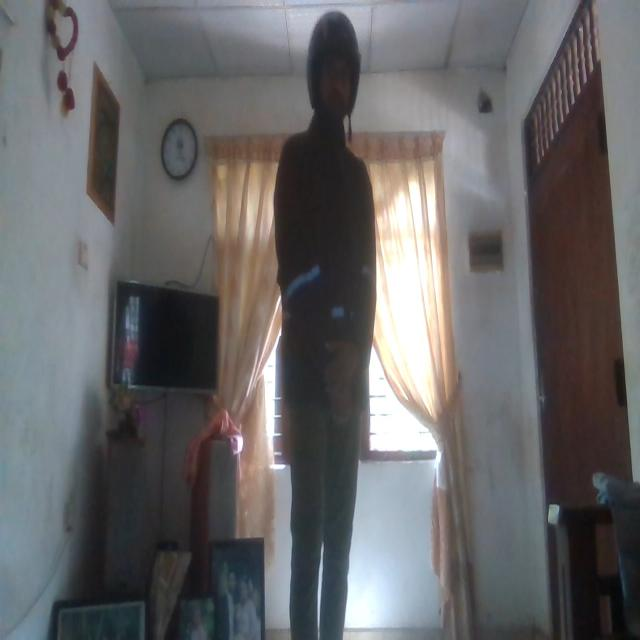Helmet_Wearer: (296, 2, 364, 135)
Jacket_Wearer: (262, 124, 389, 434)
Person: (272, 4, 382, 633)
